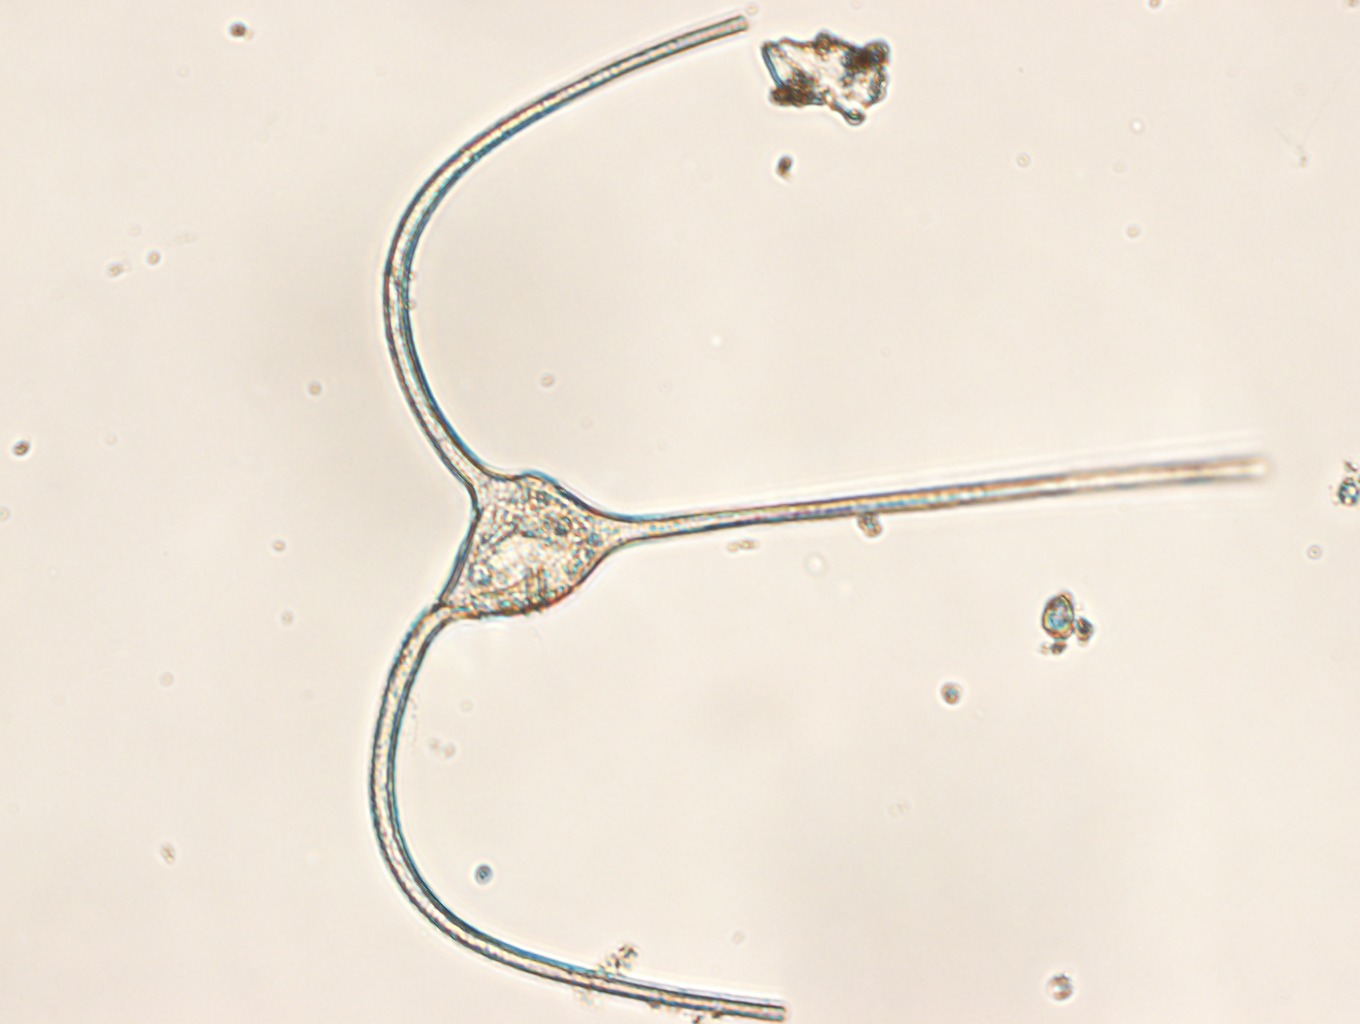ceratium trichoceros: (370, 14, 1272, 1022)
